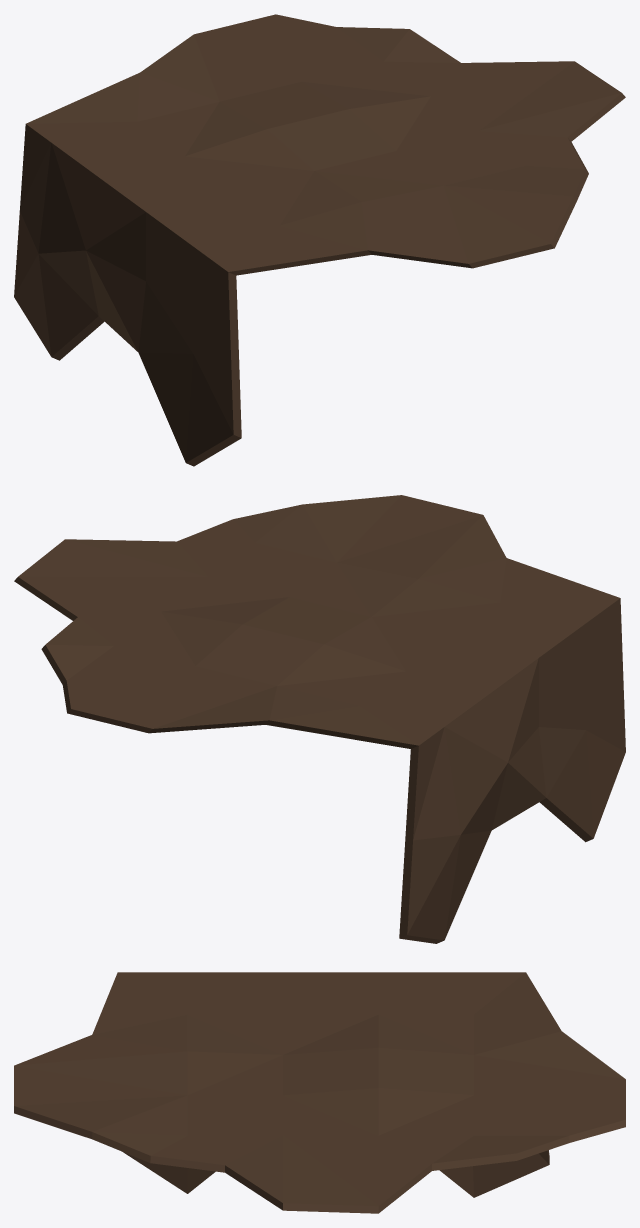
Rendered from Leather_Floor_1.fbx.
3 views of the same model, one above another, from view 1: azimuth 30°, elevation 25°; view 2: azimuth 150°, elevation 25°; view 3: azimuth 270°, elevation 25° (orthographic).
Parts seen in each view (by area): view 1: Leather_Floor_1; view 2: Leather_Floor_1; view 3: Leather_Floor_1.
Boxes of the visible parts, x1,y1,x2,y2 form: Leather_Floor_1: (14,14,625,466); Leather_Floor_1: (14,495,625,943); Leather_Floor_1: (14,972,625,1213).
Bounding box in the file's own units: 4.82 × 2.12 × 5.13.
